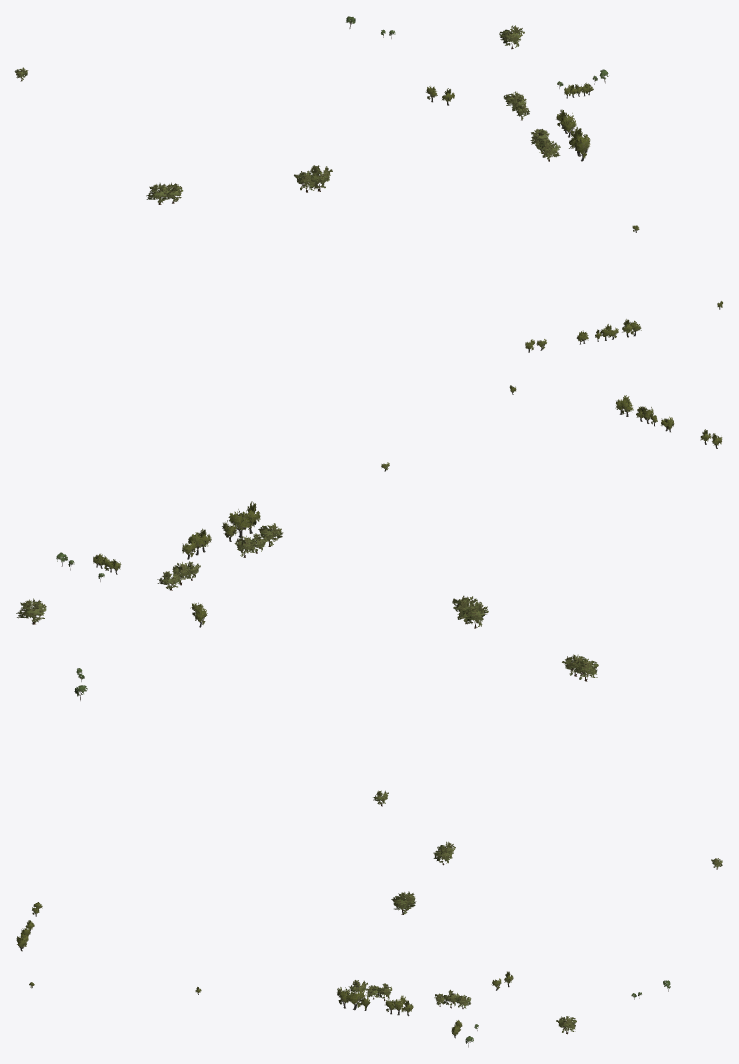
3 views of the same model, one above another, from view 1: azimuth 30°, elevation 25°; view 2: azimuth 150°, elevation 25°; view 3: azimuth 270°, elevation 25° (orthographic). The views are drawn at different scales.
Visible parts, largest first — view 1: jacaranda_tree street foliage, island_tree_01 street foliage; view 2: jacaranda_tree street foliage, island_tree_01 street foliage; view 3: jacaranda_tree street foliage, island_tree_01 street foliage.
Part boxes in pixels (x1=…): jacaranda_tree street foliage: x1=14, y1=25, x2=560, y2=203; island_tree_01 street foliage: x1=426, y1=82, x2=722, y2=350; jacaranda_tree street foliage: x1=16, y1=523, x2=598, y2=804; island_tree_01 street foliage: x1=93, y1=385, x2=722, y2=624; jacaranda_tree street foliage: x1=348, y1=841, x2=722, y2=1032; island_tree_01 street foliage: x1=16, y1=902, x2=513, y2=1035.
Size of the model in its own units: 322 by 17.39 by 494.
Materials: 6 (6 with a texture image).
